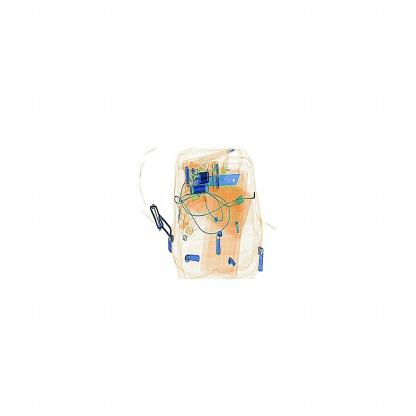pliers: (187, 165, 245, 195)
